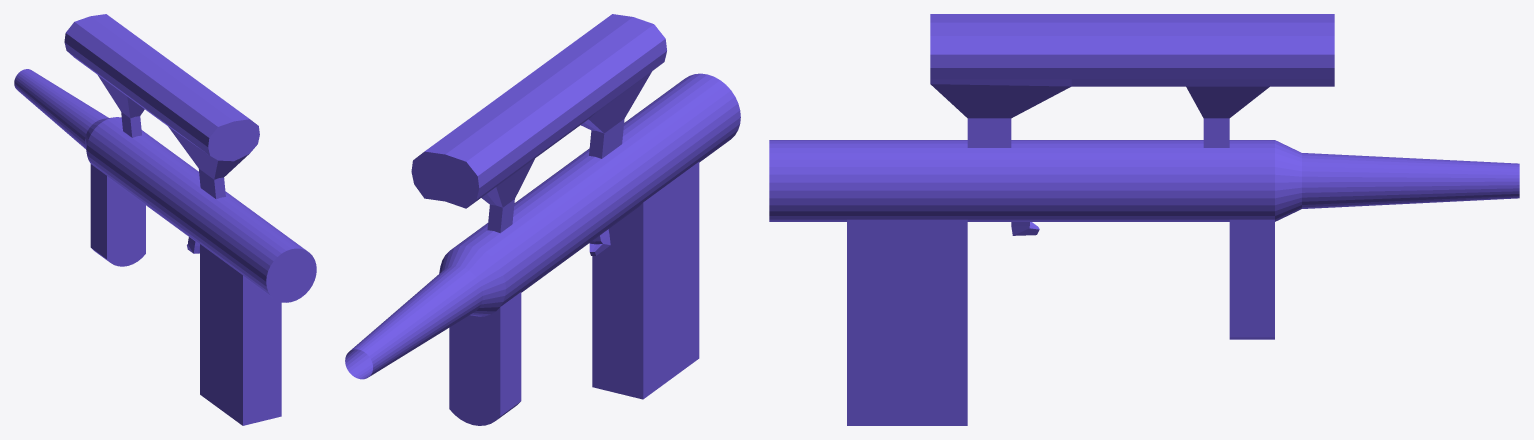
The model's file is shitty gun.glb.
3 views of the same model, side by side, from view 1: azimuth 30°, elevation 25°; view 2: azimuth 150°, elevation 25°; view 3: azimuth 270°, elevation 25° (orthographic). The views are drawn at different scales.
Parts seen in each view (by area): view 1: Cylinder; view 2: Cylinder; view 3: Cylinder.
Boxes of the visible parts, left/top/right/bottom form: Cylinder: left=14, top=14, right=316, bottom=425; Cylinder: left=345, top=14, right=740, bottom=425; Cylinder: left=769, top=14, right=1519, bottom=425.
Size of the model in its own units: 0.085 by 0.4353 by 0.7572.
